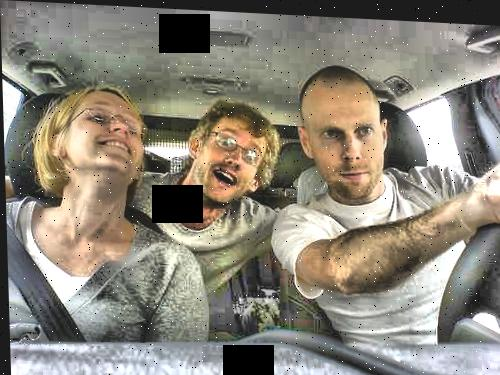seatbelt: (8, 214, 89, 338)
